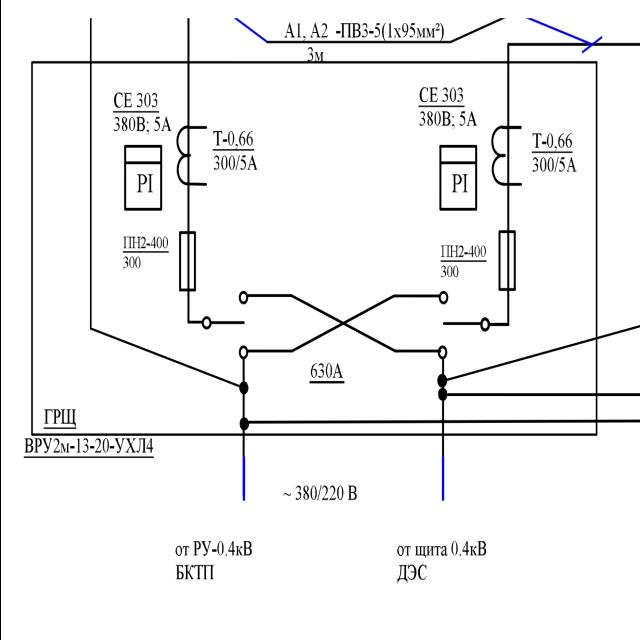-: (111, 90, 173, 140), (416, 85, 478, 133), (208, 126, 259, 178), (528, 130, 578, 178), (120, 232, 170, 276), (439, 240, 489, 278), (42, 406, 78, 434), (307, 360, 343, 380)
FU: (175, 228, 198, 296), (495, 228, 517, 296)
TT: (174, 120, 208, 190), (488, 120, 522, 190)
WH: (120, 142, 166, 212), (437, 142, 479, 216)
switch: (392, 290, 483, 360), (210, 289, 292, 363)
